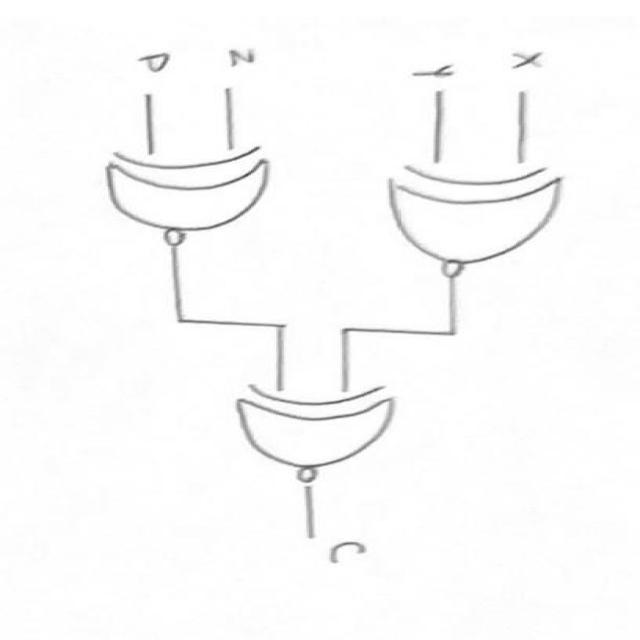XNOR: (379, 144, 589, 282), (98, 140, 312, 254), (218, 370, 414, 486)
